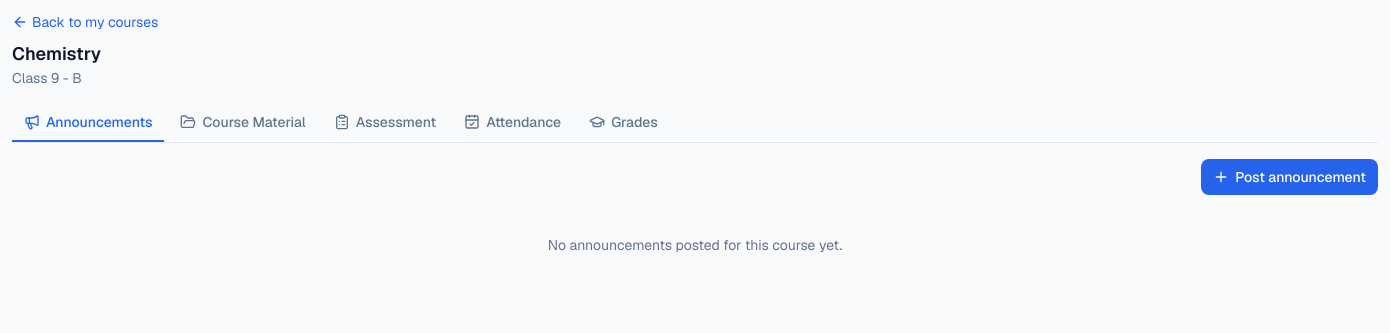
Test case: ManageCoursePage (teacher manage-course) › shows a no-class banner instead of a roster on a weekly-off day
Click the button "Attendance": (513, 123) [452,104,573,142]
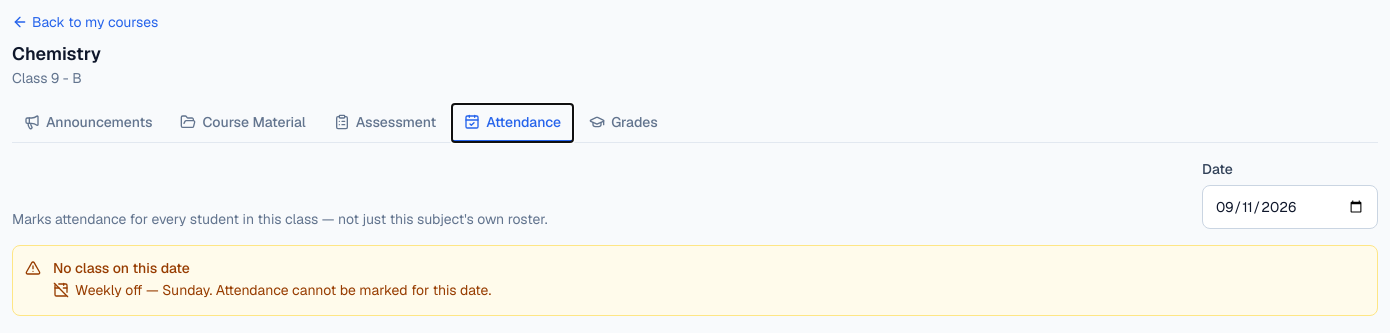
Expected: the text "Weekly off — Sunday" is shown, [75,281,209,299]
